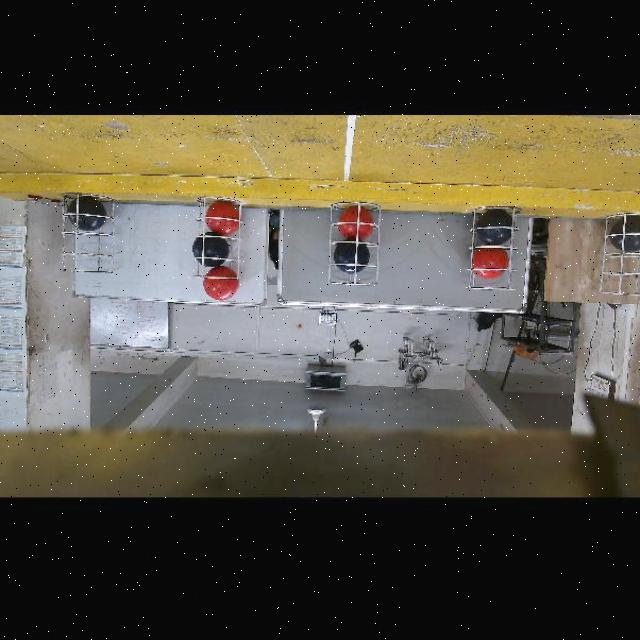P: (67, 195, 108, 231), (477, 209, 513, 246), (192, 232, 231, 265), (334, 239, 370, 274), (608, 214, 640, 251)
R: (203, 267, 240, 301), (207, 200, 240, 236), (339, 206, 374, 239), (473, 246, 508, 279)
S: (468, 200, 530, 298), (190, 190, 250, 282), (325, 196, 385, 284), (62, 192, 118, 276), (598, 214, 640, 296)
